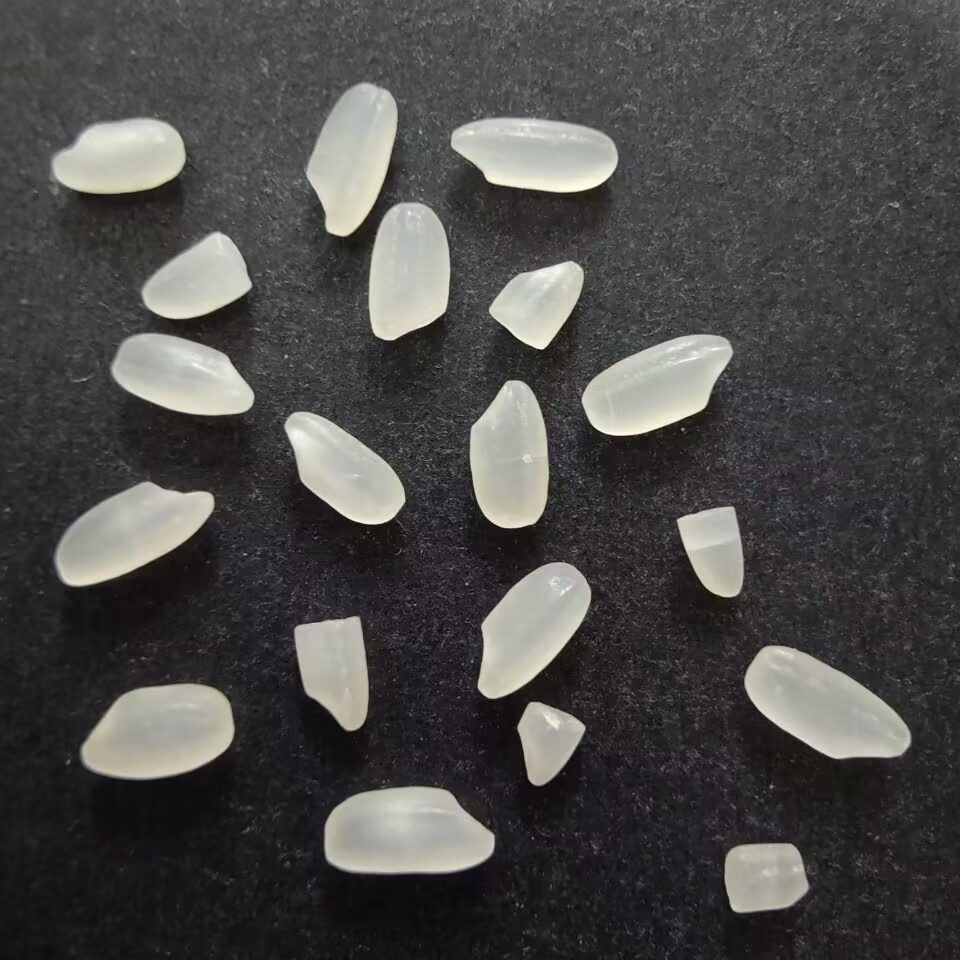broken: (285, 612, 371, 736), (140, 229, 255, 319), (485, 252, 588, 352), (720, 840, 813, 916), (676, 505, 748, 601), (513, 701, 592, 787)
rice: (743, 642, 914, 764), (53, 476, 219, 591), (470, 559, 593, 699), (320, 784, 501, 878), (578, 330, 735, 437), (79, 681, 236, 784), (281, 407, 408, 530), (305, 81, 401, 242), (445, 115, 625, 196), (104, 330, 255, 420), (364, 197, 455, 345), (467, 377, 550, 534), (48, 112, 186, 199)
